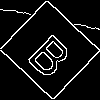B: (25, 25, 81, 82)
